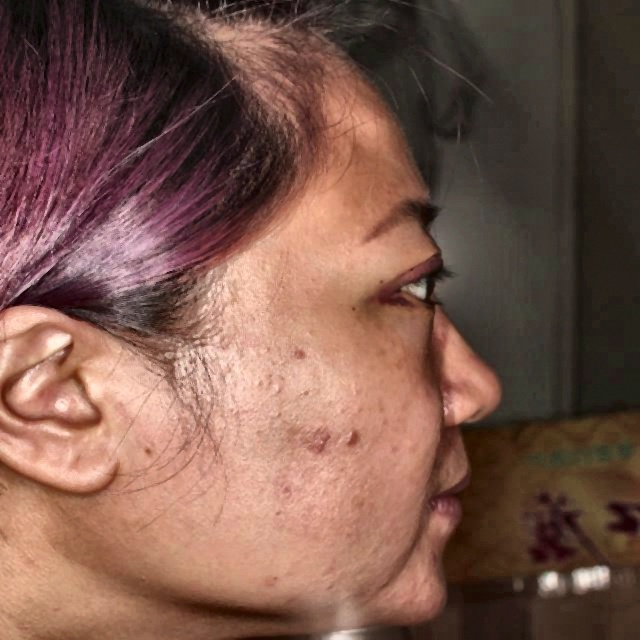comedone: (331, 412, 370, 453), (296, 425, 325, 462)
